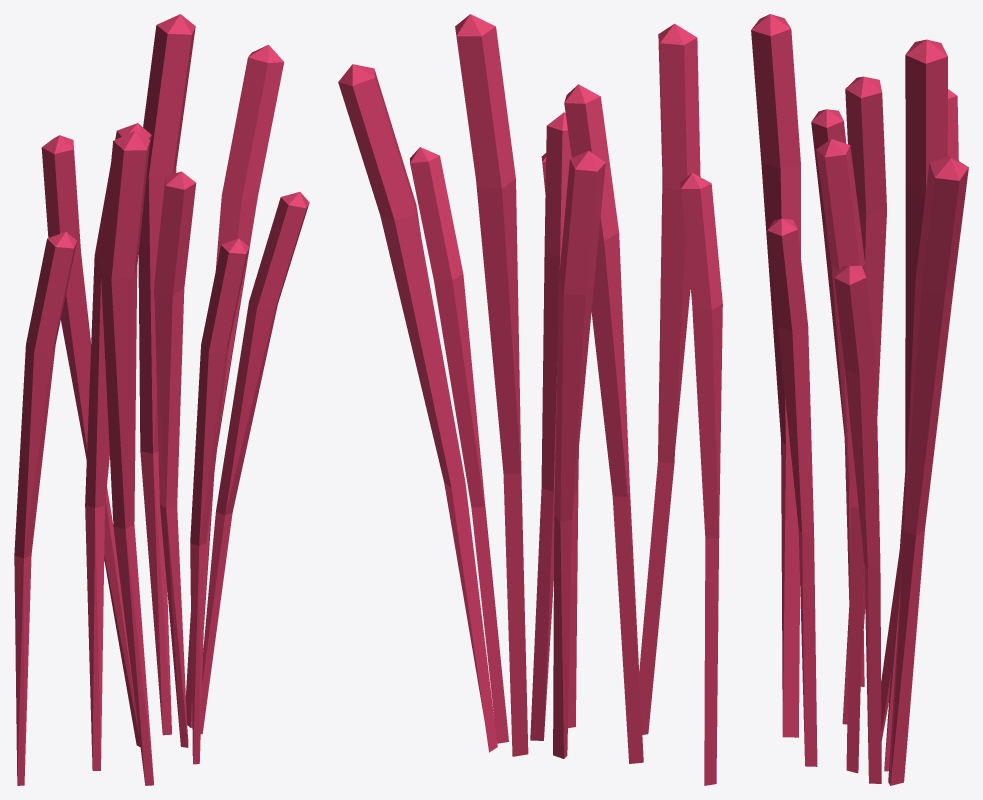
File: Coral07.fbx
3 views of the same model, side by side, from view 1: azimuth 30°, elevation 25°; view 2: azimuth 150°, elevation 25°; view 3: azimuth 270°, elevation 25° (orthographic). The views are drawn at different scales.
Visible parts, largest first — view 1: Coral07; view 2: Coral07; view 3: Coral07.
Part boxes in pixels (bbox=[...]): Coral07: bbox=[14, 14, 309, 785]; Coral07: bbox=[338, 14, 722, 785]; Coral07: bbox=[751, 14, 968, 785].
Size of the model in its own units: 1.5 by 3.25 by 0.8601.
